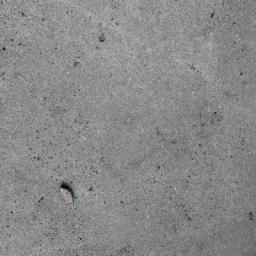FOD: (56, 182, 80, 210)
